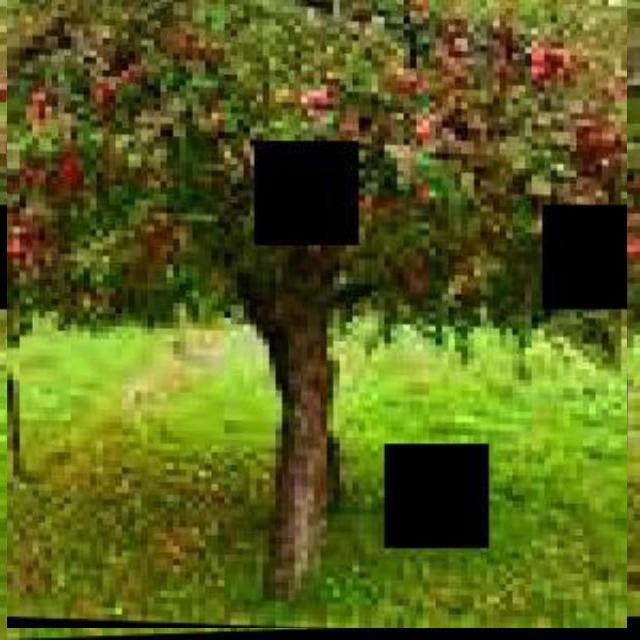tree: (7, 0, 627, 628)
